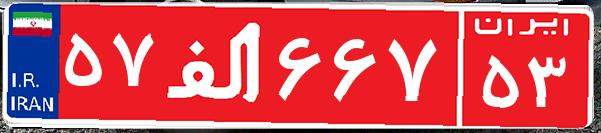3: (525, 38, 570, 115)
5: (57, 26, 110, 107), (475, 38, 525, 113)
6: (273, 28, 330, 110), (330, 28, 385, 110)
7: (385, 28, 445, 110), (110, 28, 158, 105)
الف: (158, 15, 273, 115)
